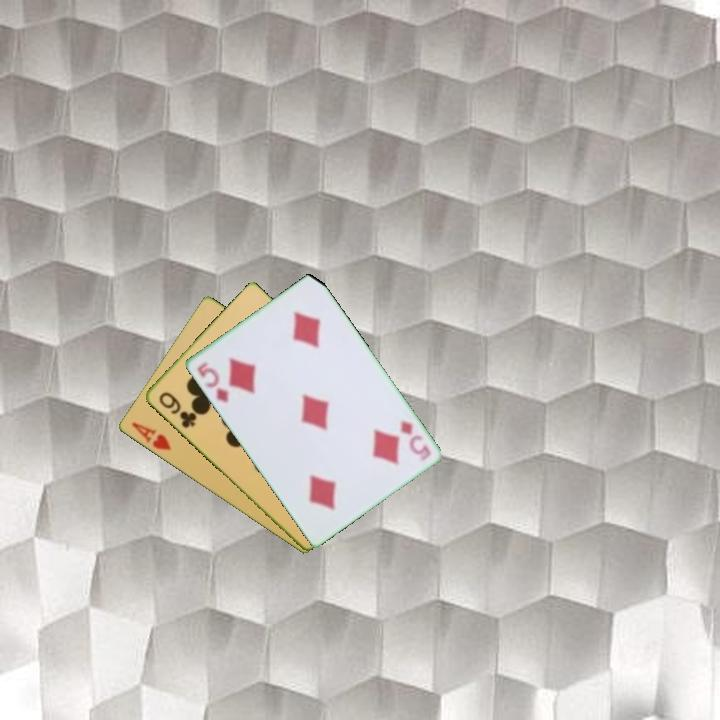5d: (193, 358, 231, 405), (396, 417, 434, 464)
9c: (155, 388, 199, 431)
Ah: (128, 418, 174, 453)
